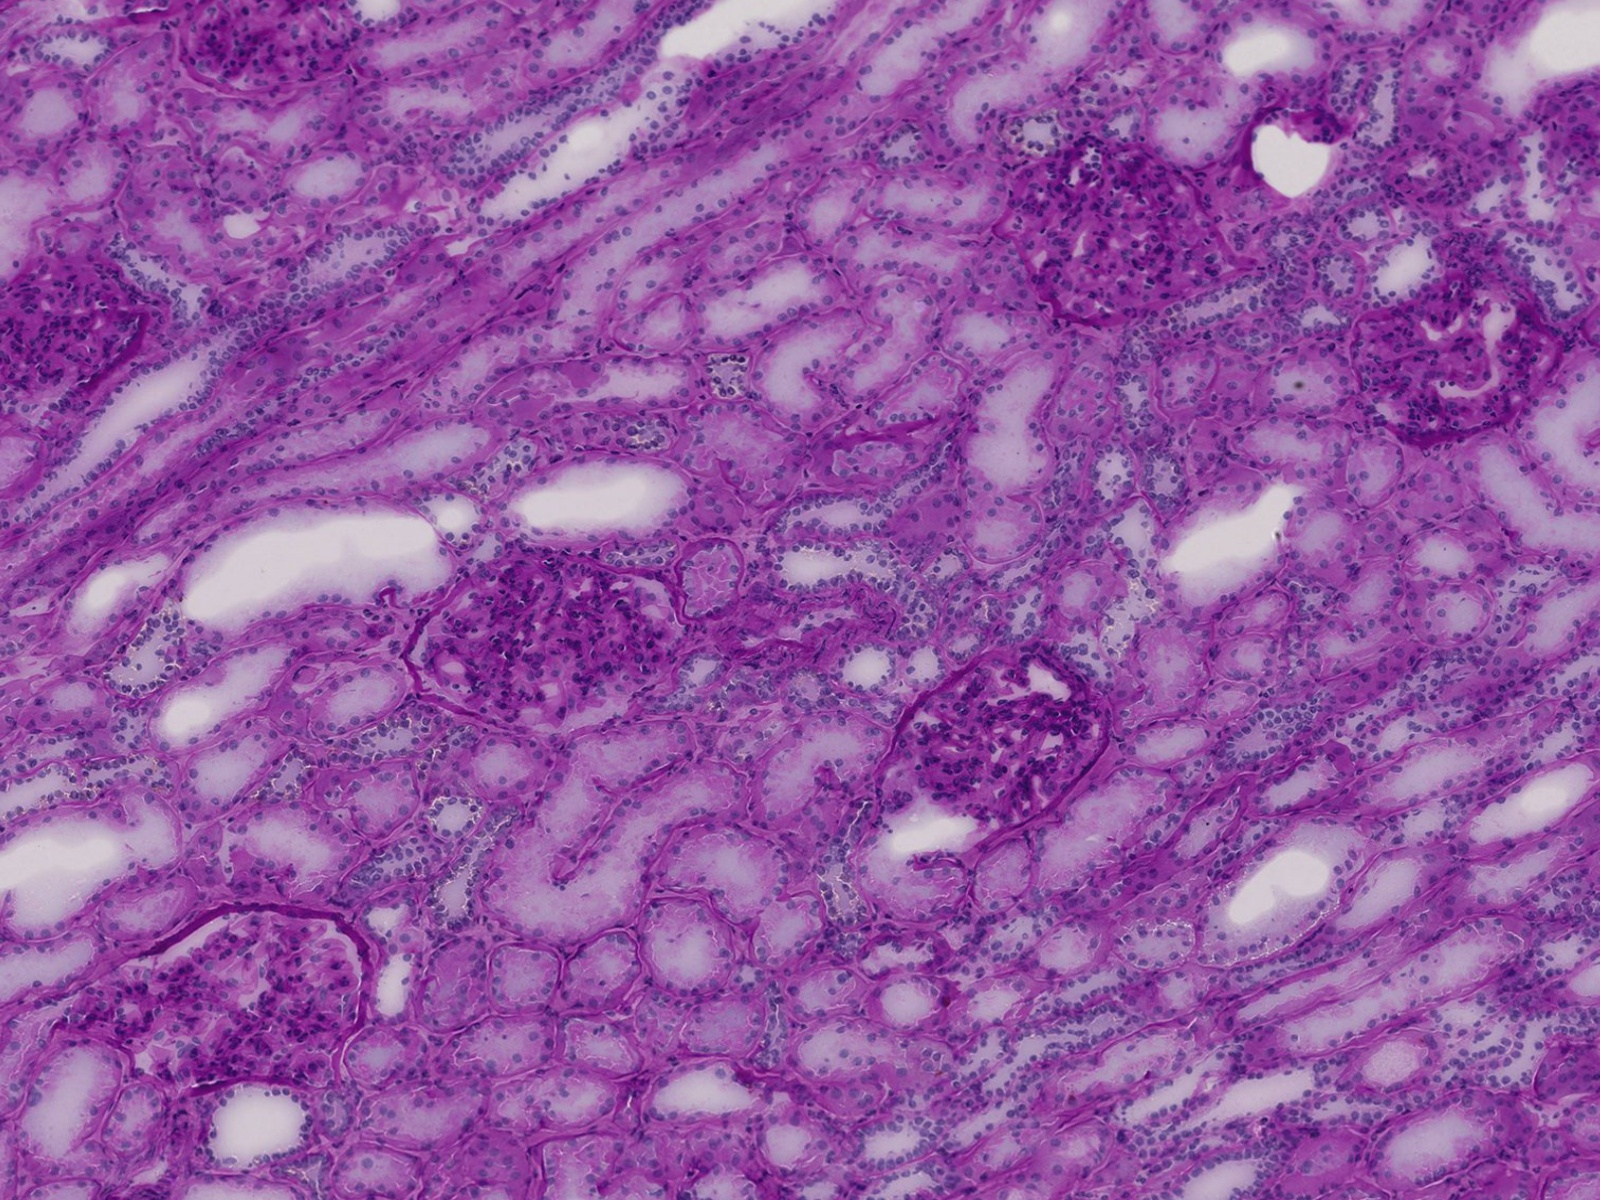Glomeruli: (989, 132, 1262, 338), (398, 555, 695, 741), (874, 649, 1115, 867), (115, 903, 370, 1099), (1333, 263, 1580, 437), (8, 223, 151, 426), (160, 3, 360, 108)
